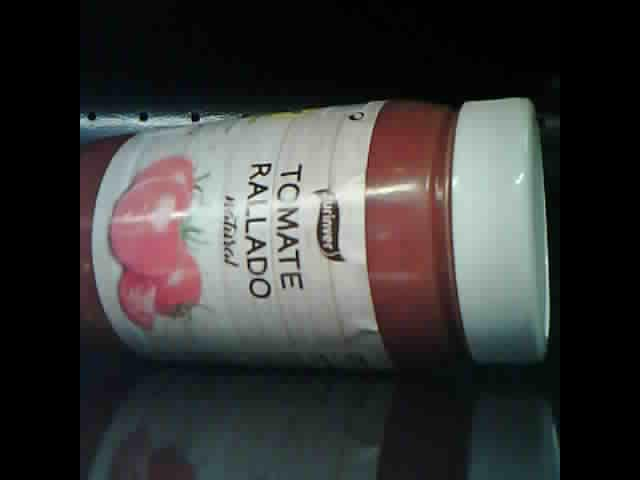tomate: (82, 98, 554, 370)
